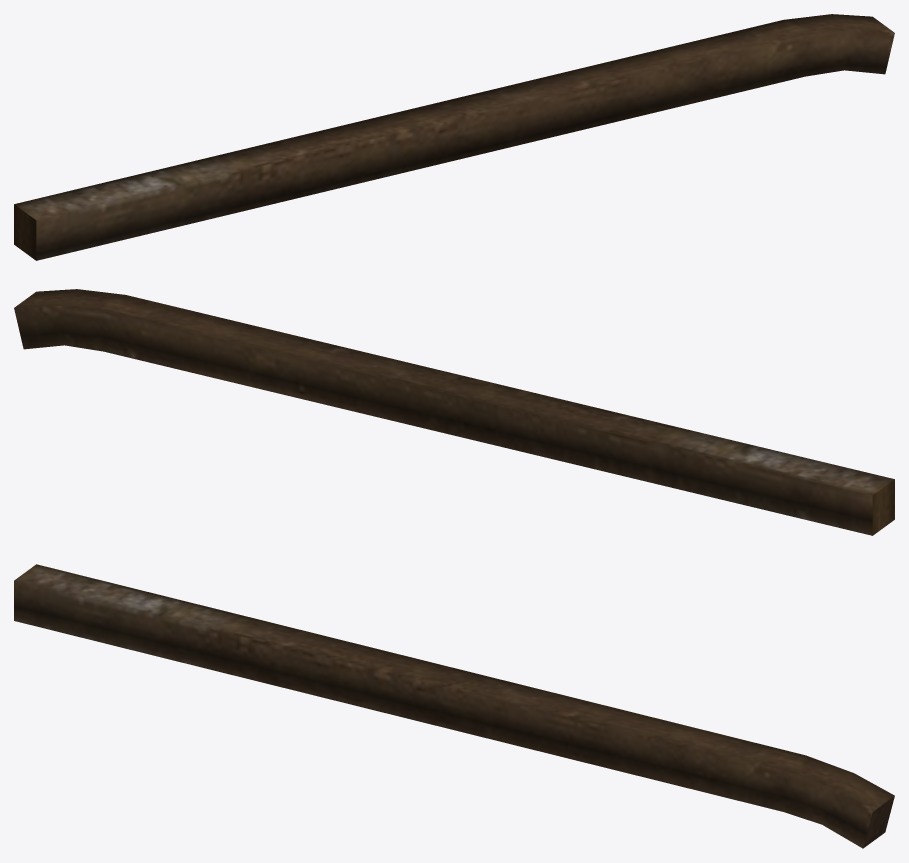
File: WoodPlank_04.FBX
3 renders of one model, top to bottom at view 1: azimuth 30°, elevation 25°; view 2: azimuth 150°, elevation 25°; view 3: azimuth 330°, elevation 25°, orthographic.
Parts seen in each view (by area): view 1: WoodPlank_04; view 2: WoodPlank_04; view 3: WoodPlank_04.
Boxes of the visible parts, box(x1,y1,x2,y2) form: WoodPlank_04: box(14, 14, 894, 260); WoodPlank_04: box(14, 289, 894, 535); WoodPlank_04: box(14, 564, 894, 848).
Bounding box in the file's own units: 144 × 9.77 × 6.46.
